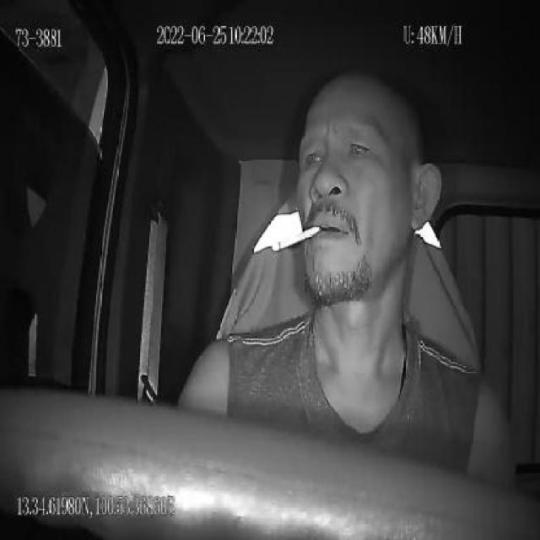smoking: (272, 222, 320, 256)
